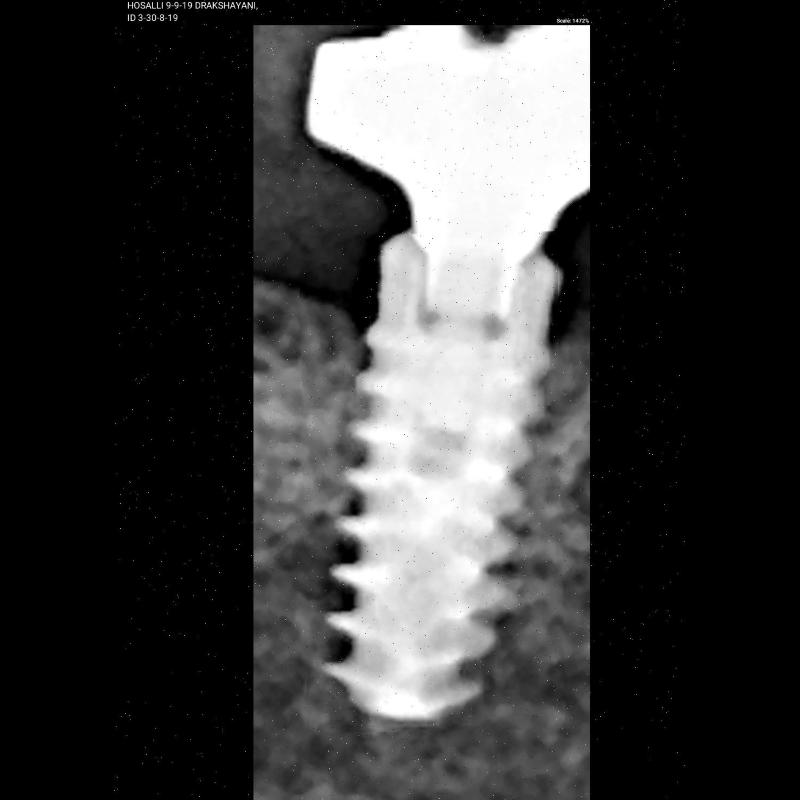NORIS: (301, 233, 563, 732)
